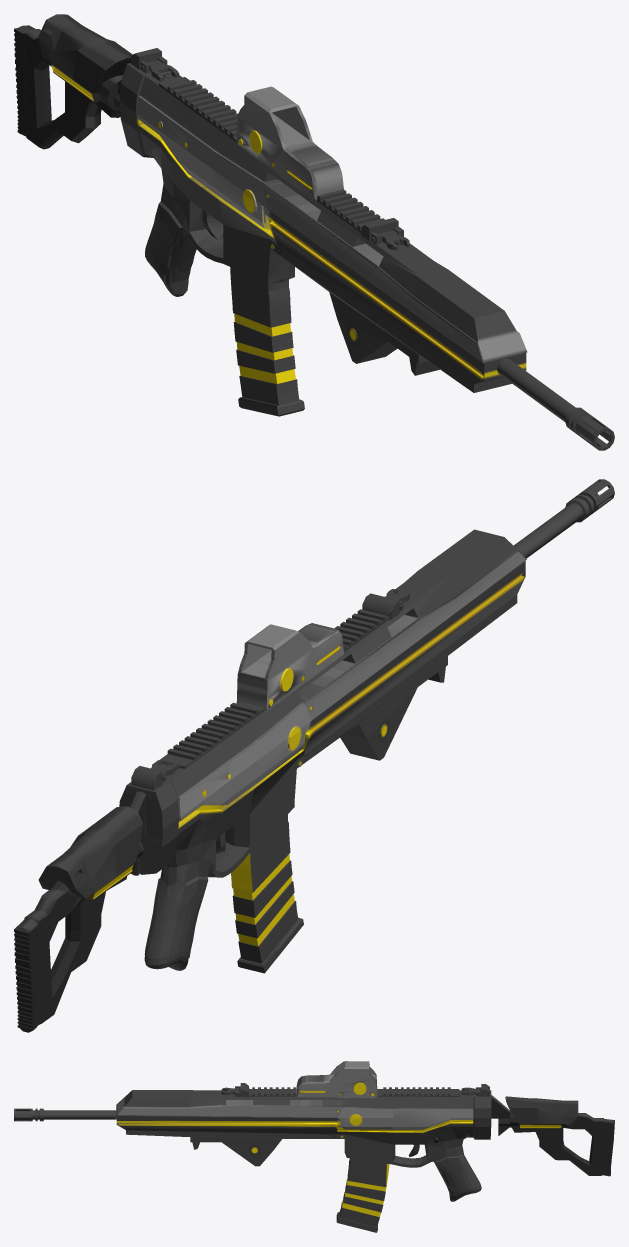
The model's file is Rifle_resize.FBX.
The picture shows the model from 3 angles, top to bottom: view 1: azimuth 30°, elevation 25°; view 2: azimuth 150°, elevation 25°; view 3: azimuth 270°, elevation 25°; orthographic projection. The views are drawn at different scales.
Visible parts, largest first — view 1: Rifle, Magazine(Merge), Magazine, Rifle_Effect; view 2: Rifle, Magazine(Merge), Magazine, Rifle_Effect; view 3: Rifle, Magazine(Merge), Rifle_Effect.
Part boxes in pixels (bbox=[...]): Rifle: bbox=[14, 14, 614, 450]; Magazine(Merge): bbox=[230, 267, 304, 416]; Magazine: bbox=[235, 270, 304, 415]; Rifle_Effect: bbox=[53, 67, 483, 375]; Rifle: bbox=[14, 479, 614, 1032]; Magazine(Merge): bbox=[231, 814, 302, 973]; Magazine: bbox=[233, 815, 303, 971]; Rifle_Effect: bbox=[94, 574, 522, 897]; Rifle: bbox=[14, 1061, 614, 1201]; Magazine(Merge): bbox=[336, 1158, 389, 1232]; Rifle_Effect: bbox=[117, 1083, 560, 1153].
Bounding box in the file's own units: 0.0466 × 0.2986 × 0.9825.
